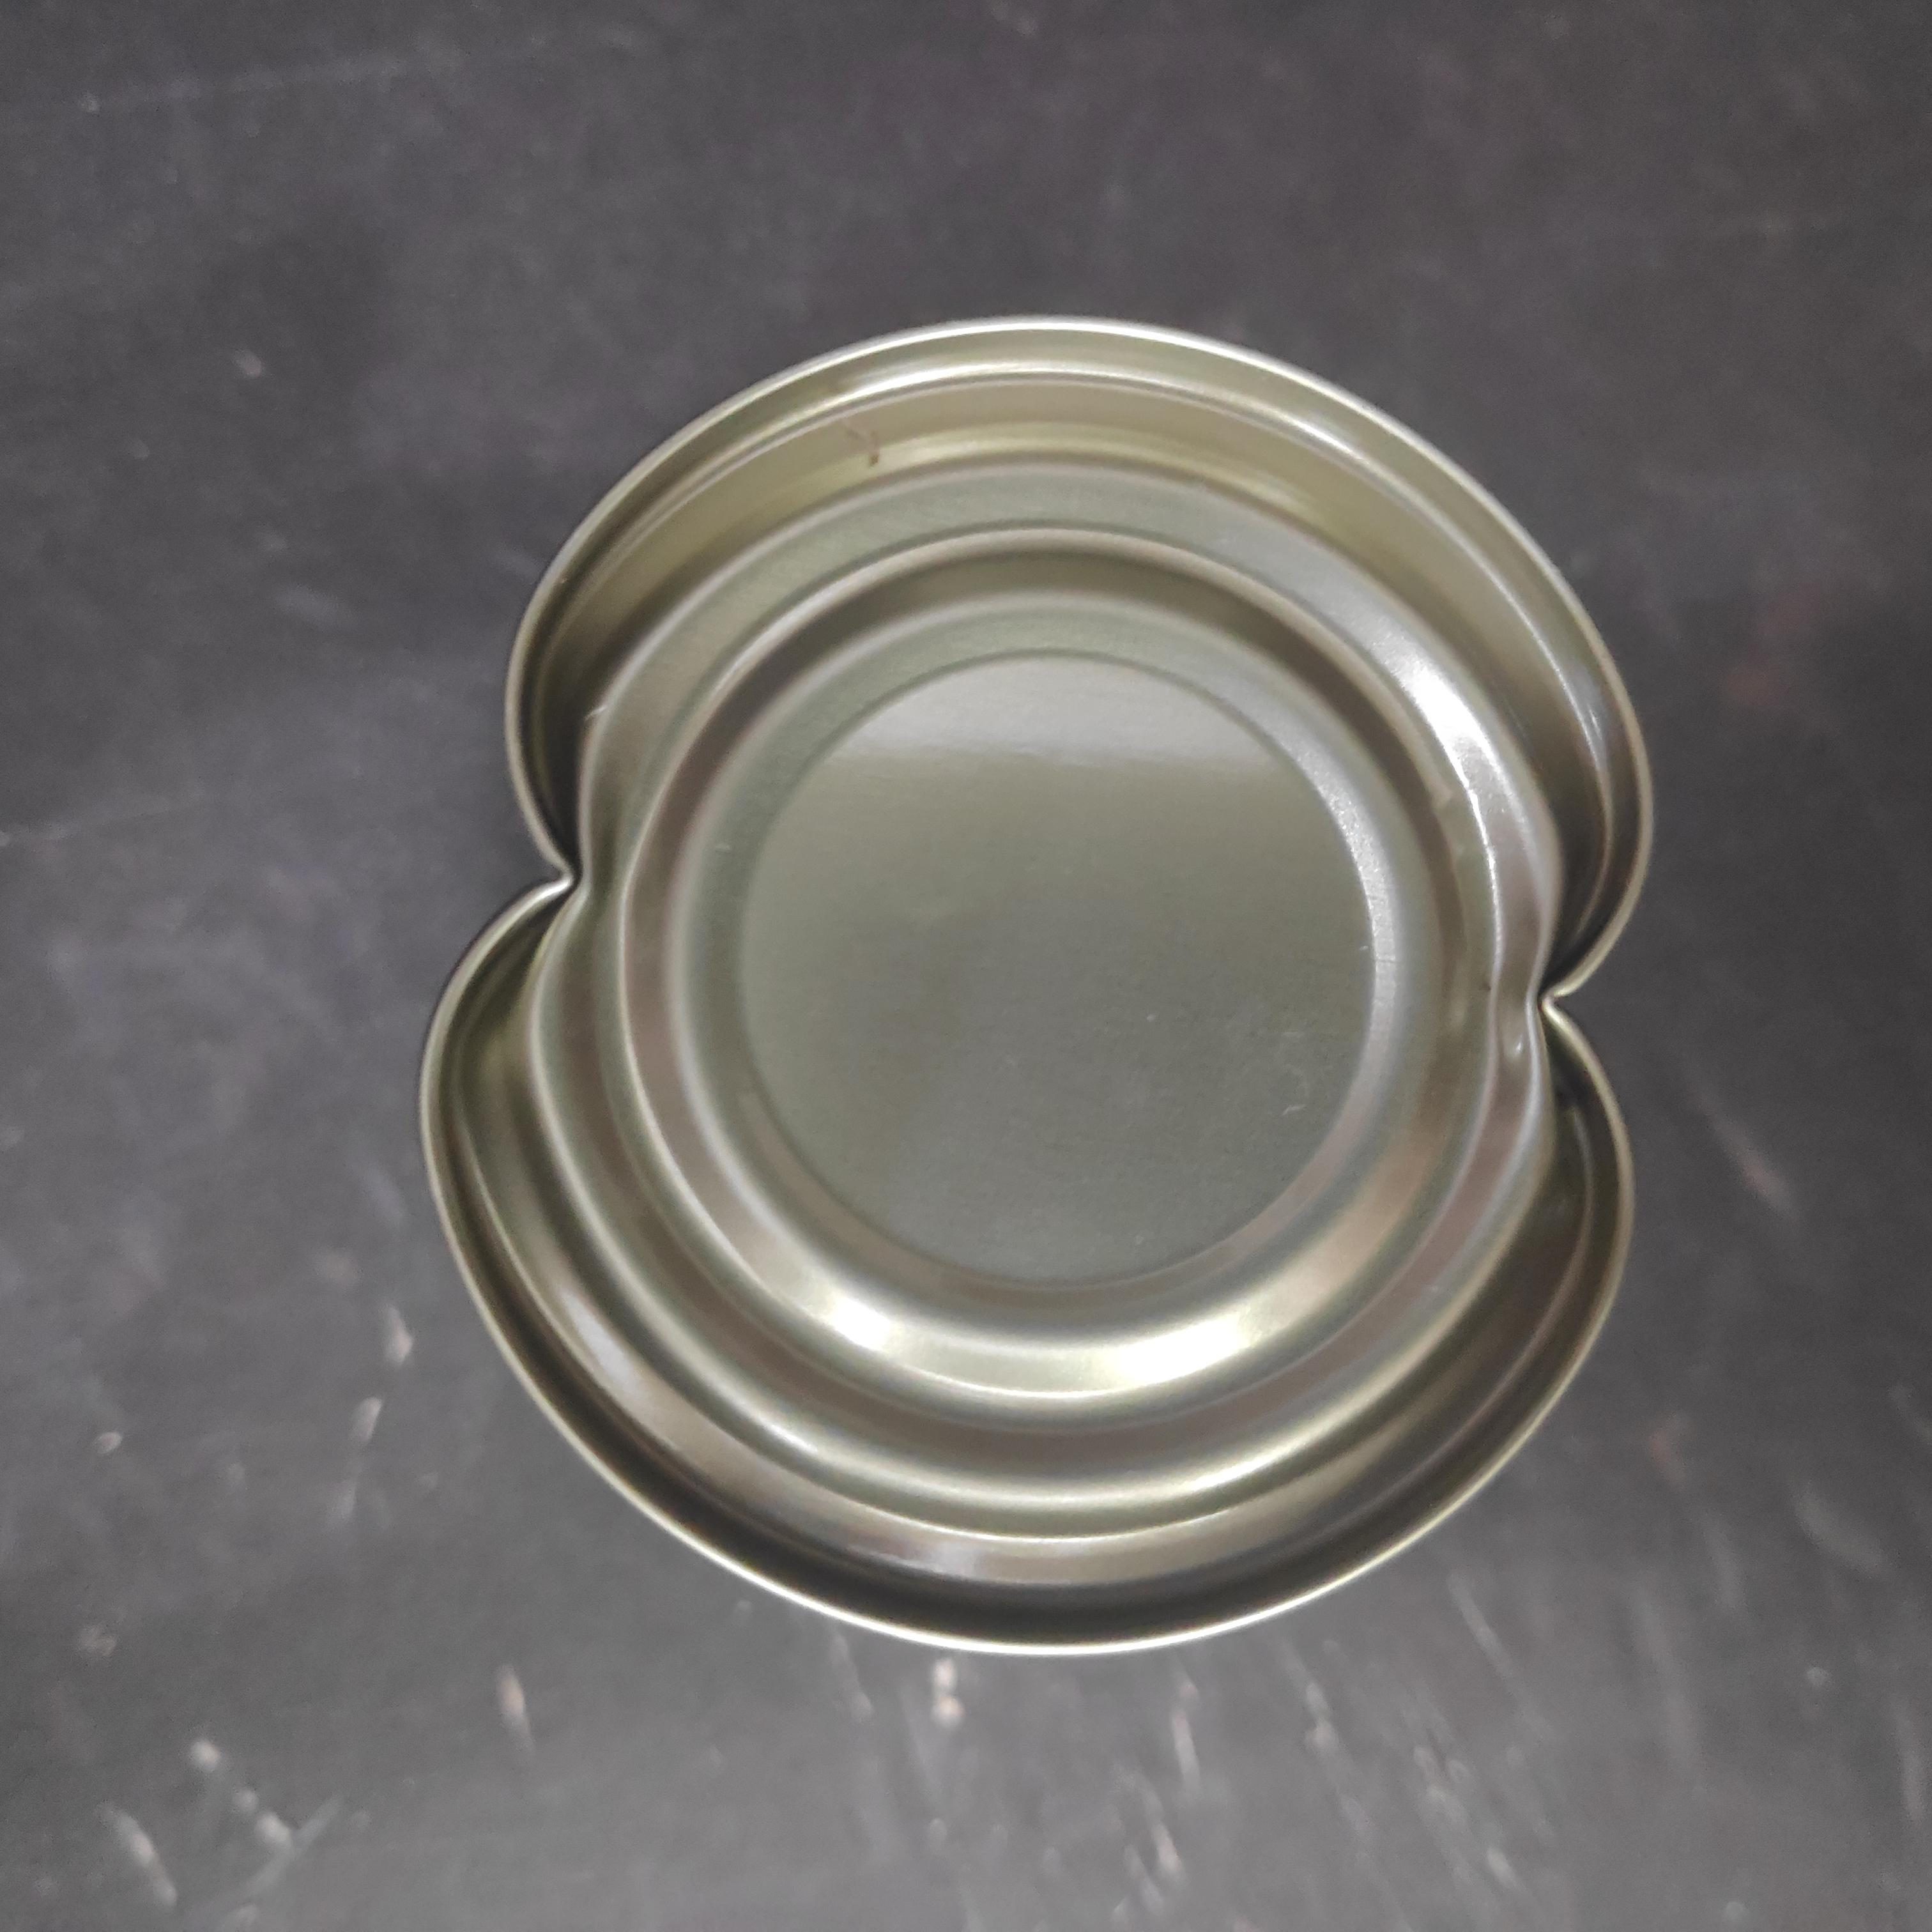Critical Defect: (257, 403, 1634, 1671)
